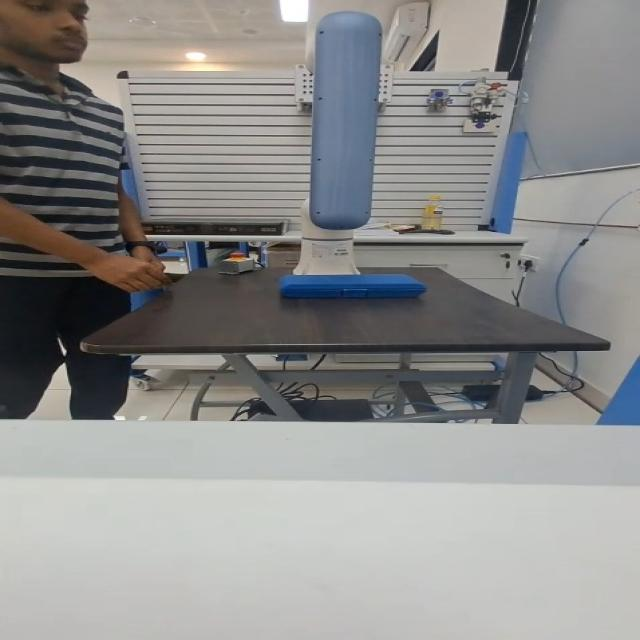top-surface: (289, 275, 416, 284)
